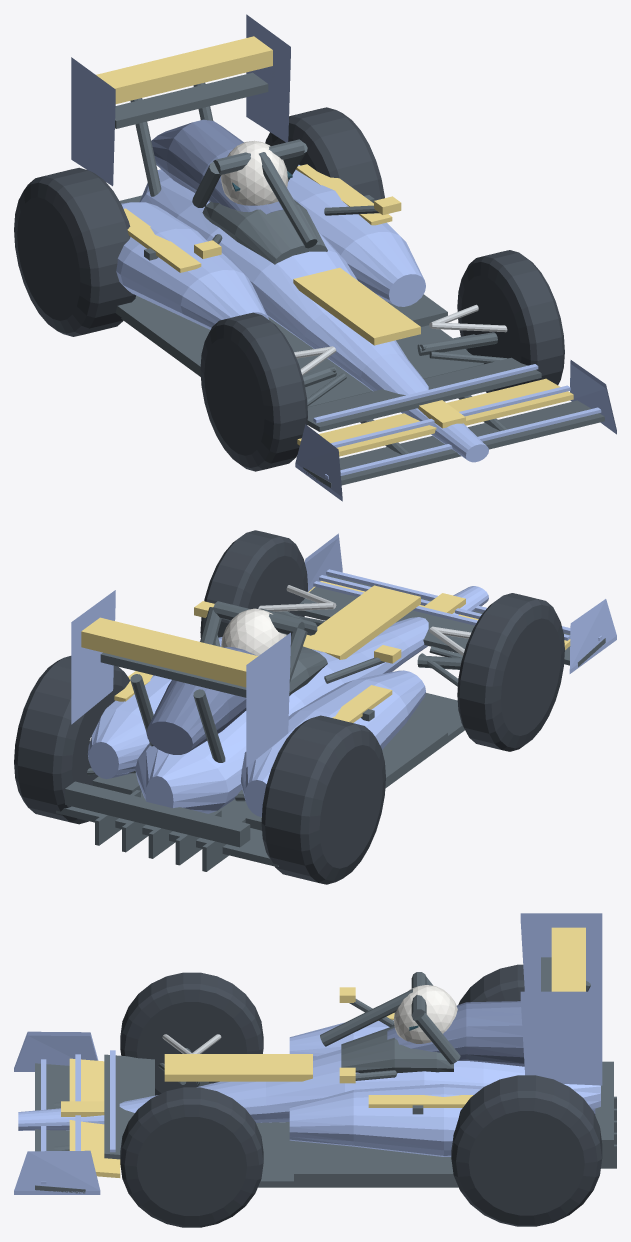
File: redbull_high.glb
3 views of the same model, one above another, from view 1: azimuth 30°, elevation 25°; view 2: azimuth 150°, elevation 25°; view 3: azimuth 270°, elevation 25° (orthographic). The views are drawn at different scales.
Visible parts, largest first — view 1: BODY_paint, BODY_carbon, BODY_accent, RearLeftWheel_rubber, FrontLeftWheel_rubber, FrontRightWheel_rubber, RearRightWheel_rubber, BODY_paint_dark, BODY_helmet, BODY_metal; view 2: BODY_paint, BODY_carbon, RearLeftWheel_rubber, FrontLeftWheel_rubber, BODY_accent, RearRightWheel_rubber, FrontRightWheel_rubber, BODY_paint_dark, BODY_helmet, BODY_metal; view 3: BODY_paint, BODY_carbon, RearRightWheel_rubber, FrontRightWheel_rubber, BODY_accent, FrontLeftWheel_rubber, BODY_paint_dark, BODY_helmet, RearLeftWheel_rubber.
Part boxes in pixels (<box>): BODY_paint: <box>71,14,616,501</box>; BODY_carbon: <box>115,72,604,487</box>; BODY_accent: <box>96,36,573,456</box>; RearLeftWheel_rubber: <box>14,167,135,336</box>; FrontLeftWheel_rubber: <box>200,312,307,471</box>; FrontRightWheel_rubber: <box>457,250,564,392</box>; RearRightWheel_rubber: <box>265,107,384,200</box>; BODY_paint_dark: <box>151,119,283,214</box>; BODY_helmet: <box>221,140,288,205</box>; BODY_metal: <box>294,304,507,375</box>; BODY_paint: <box>71,533,616,816</box>; BODY_carbon: <box>56,575,605,871</box>; RearLeftWheel_rubber: <box>261,715,385,884</box>; FrontLeftWheel_rubber: <box>457,593,564,751</box>; BODY_accent: <box>81,581,570,722</box>; RearRightWheel_rubber: <box>14,656,130,824</box>; FrontRightWheel_rubber: <box>200,530,307,637</box>; BODY_paint_dark: <box>146,647,256,754</box>; BODY_helmet: <box>221,608,286,655</box>; BODY_metal: <box>89,585,471,741</box>; BODY_paint: <box>14,913,602,1194</box>; BODY_carbon: <box>35,957,616,1193</box>; RearRightWheel_rubber: <box>451,1075,602,1226</box>; FrontRightWheel_rubber: <box>120,1087,263,1227</box>; BODY_accent: <box>61,927,585,1177</box>; FrontLeftWheel_rubber: <box>120,972,263,1095</box>; BODY_paint_dark: <box>387,1001,524,1066</box>; BODY_helmet: <box>393,985,457,1043</box>; RearLeftWheel_rubber: <box>458,964,524,1004</box>.
Size of the model in its own units: 2.59 by 1.9 by 4.88.
